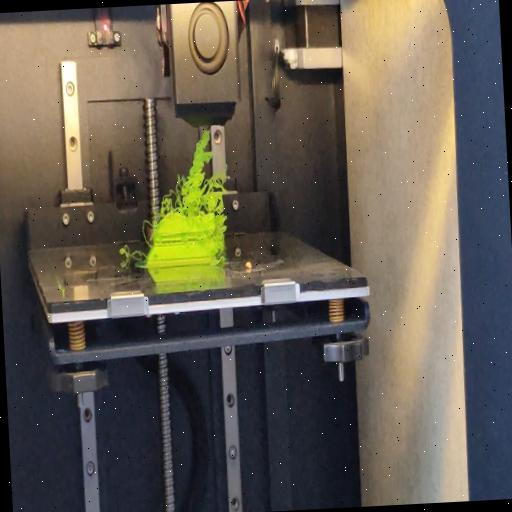spaghetti: (156, 132, 225, 212), (213, 213, 231, 266), (140, 215, 157, 247), (119, 244, 147, 260)
